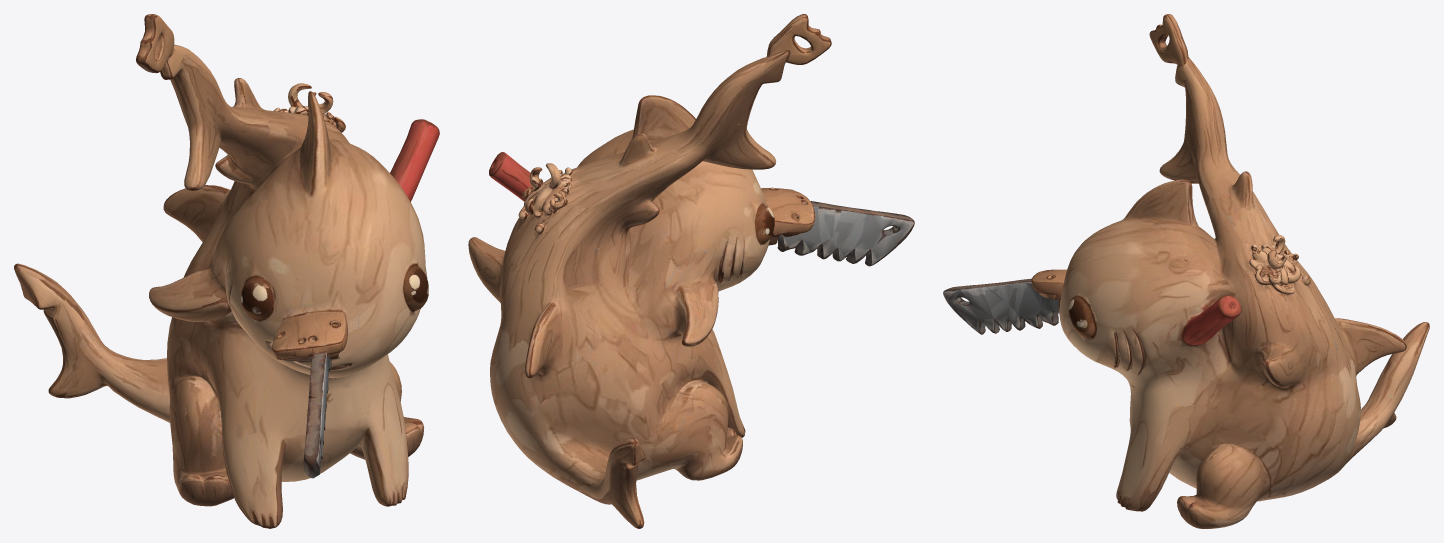
3 views of the same model, side by side, from view 1: azimuth 30°, elevation 25°; view 2: azimuth 150°, elevation 25°; view 3: azimuth 270°, elevation 25° (orthographic). The views are drawn at different scales.
Parts seen in each view (by area): view 1: Mesh_0; view 2: Mesh_0; view 3: Mesh_0.
Part boxes in pixels (<box>): Mesh_0: <box>14,14,439,528</box>; Mesh_0: <box>468,14,914,528</box>; Mesh_0: <box>943,14,1429,528</box>.
Bounding box in the file's own units: 1.22 × 1.76 × 1.9.
1 material, 1 textured.
